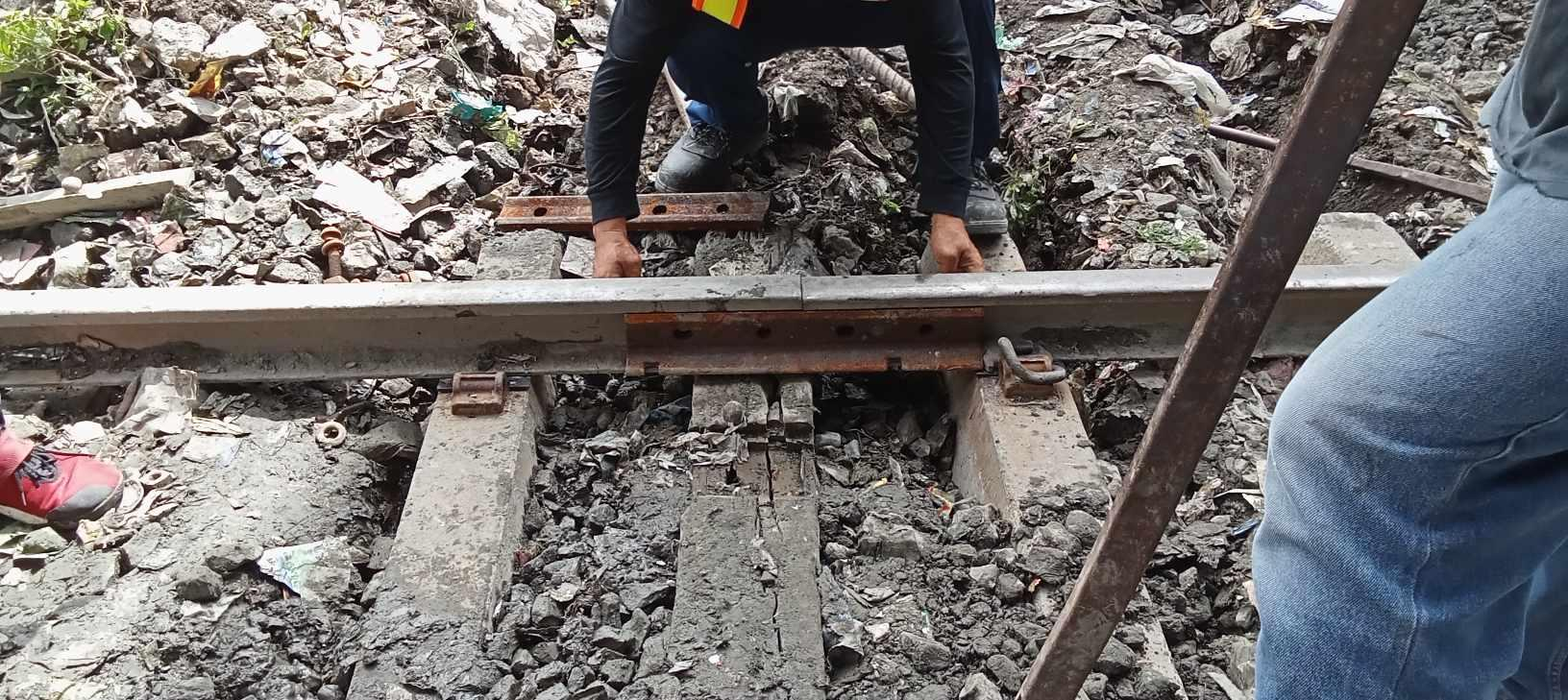railway-gap: (769, 259, 836, 329)
